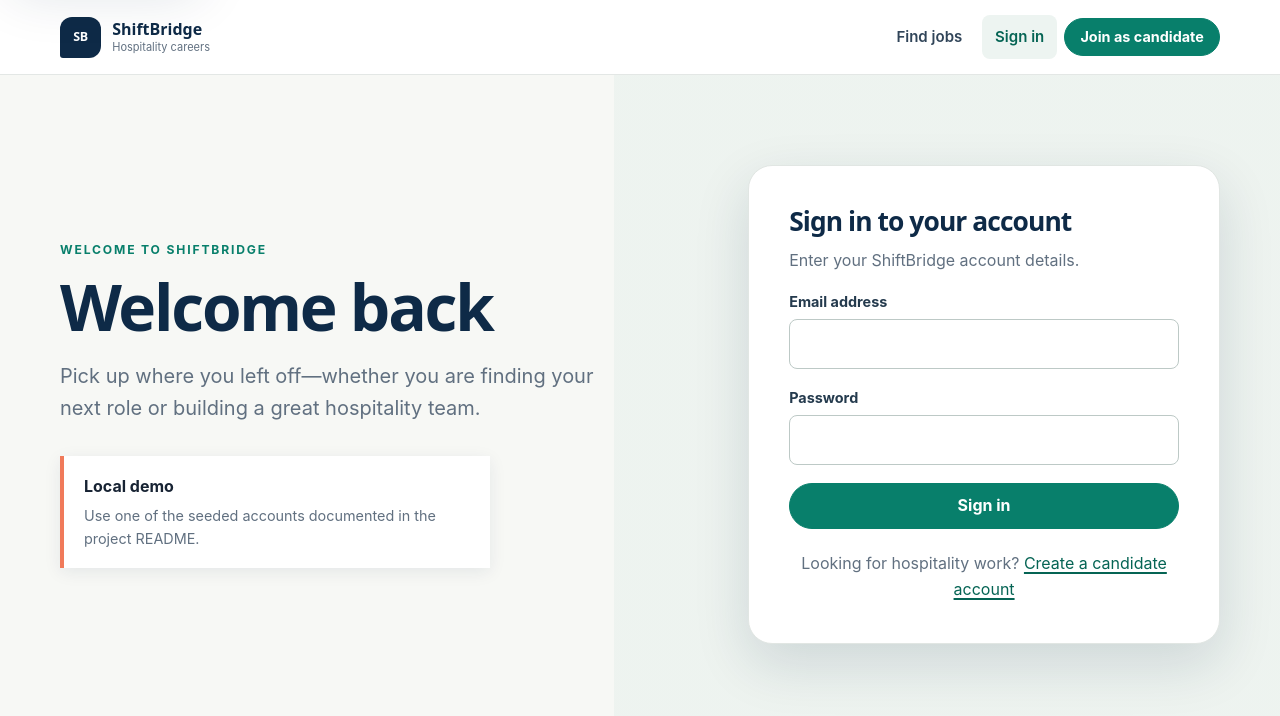
it: ShiftBridge application › presents invalid credentials as an accessible authentication failure
The image size is (1280, 716).
Type "wrong@example.test" into the field labelled "Email address".
click(984, 344); type("wrong@example.test")  # box [789,319,1179,369]
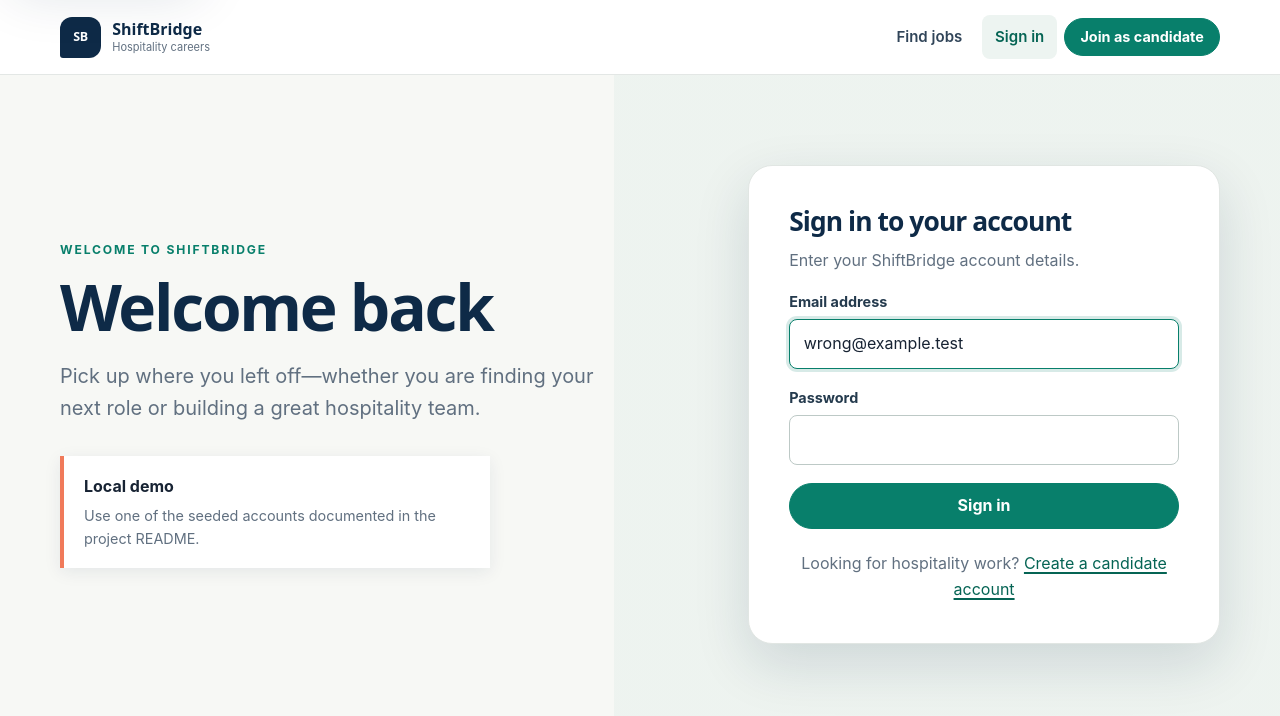
Type "incorrect-password" into the password field labelled "Password".
click(984, 440); type("incorrect-password")  # box [789,415,1179,465]
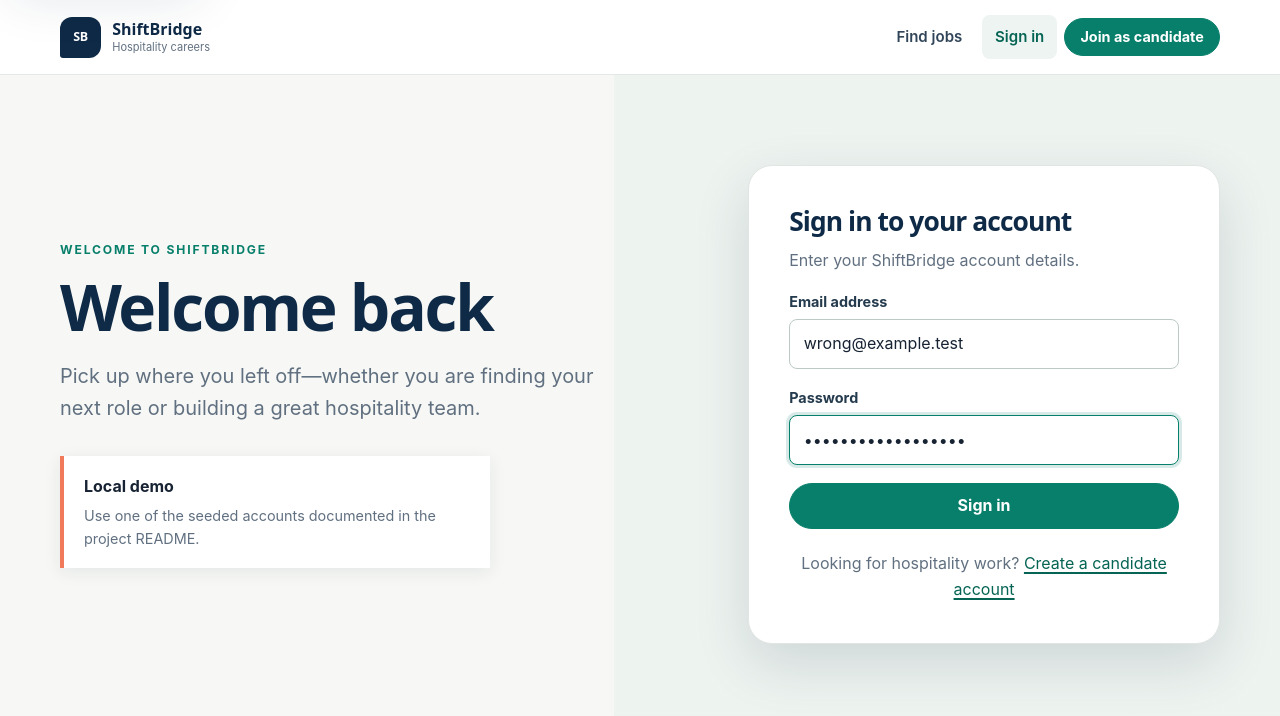
Click the button "Sign in".
click(984, 506)  # box [789,483,1179,529]
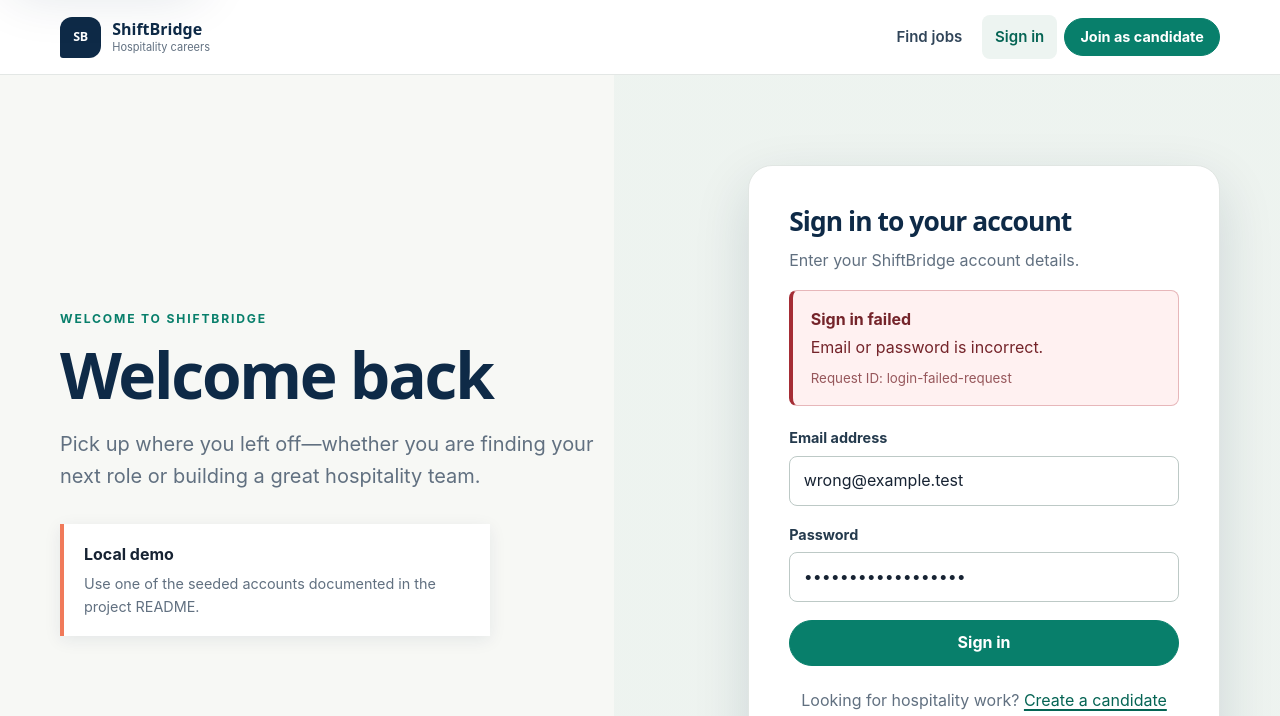
expect the message shows "Sign in failed": met, box [811,308,911,328]
expect the message shows "Email or password is incorrect.": met, box [811,337,1043,357]
